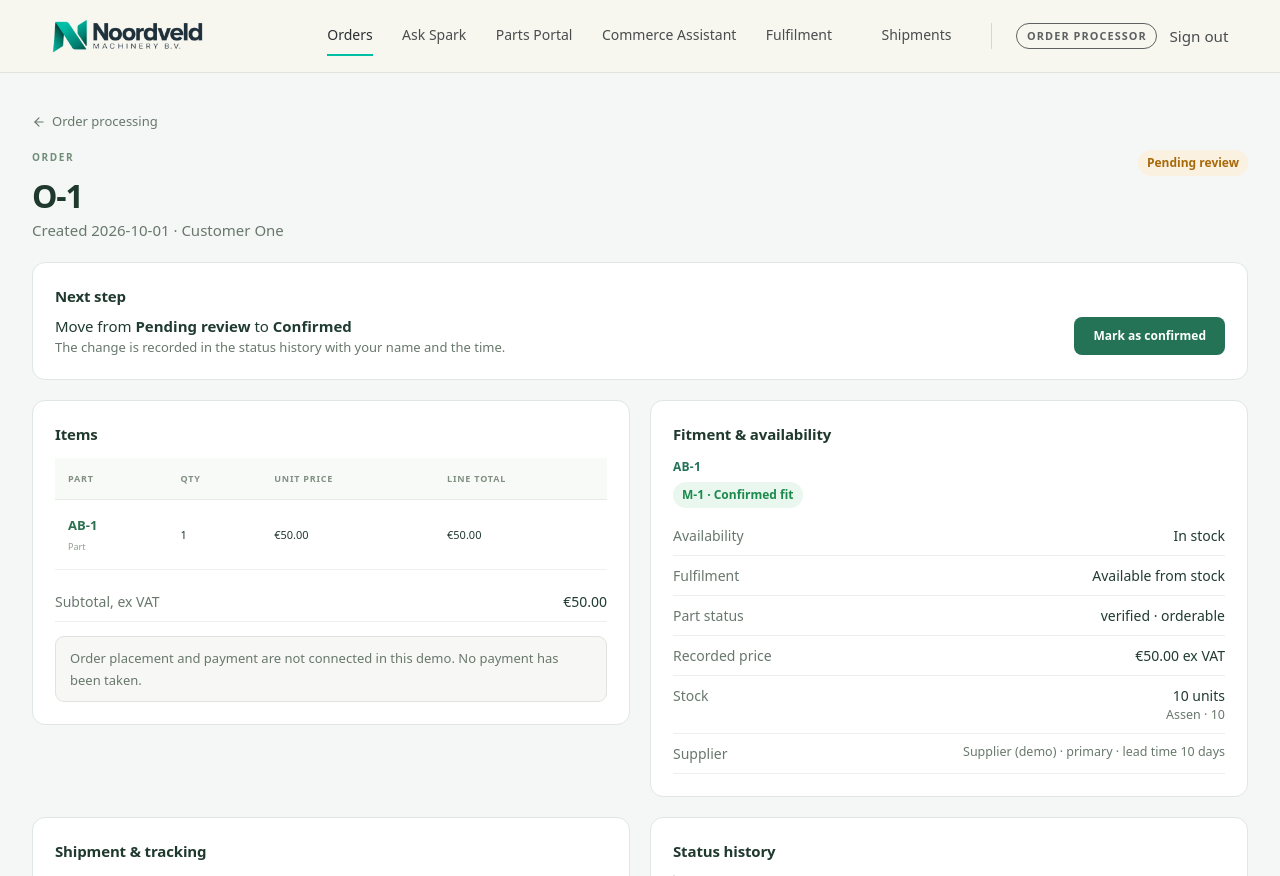
it: roles › lets the Order Processor inspect the order and move it one valid step
The image size is (1280, 876).
Check: the text "Supplier (demo) · primary · lead time 10 days" is shown, box [963,743,1225,762]
Check: the text "Assen · 10" is shown, box [1166,706,1225,724]
Click the button "Mark as confirmed": click(1150, 336) [1074,317,1225,355]
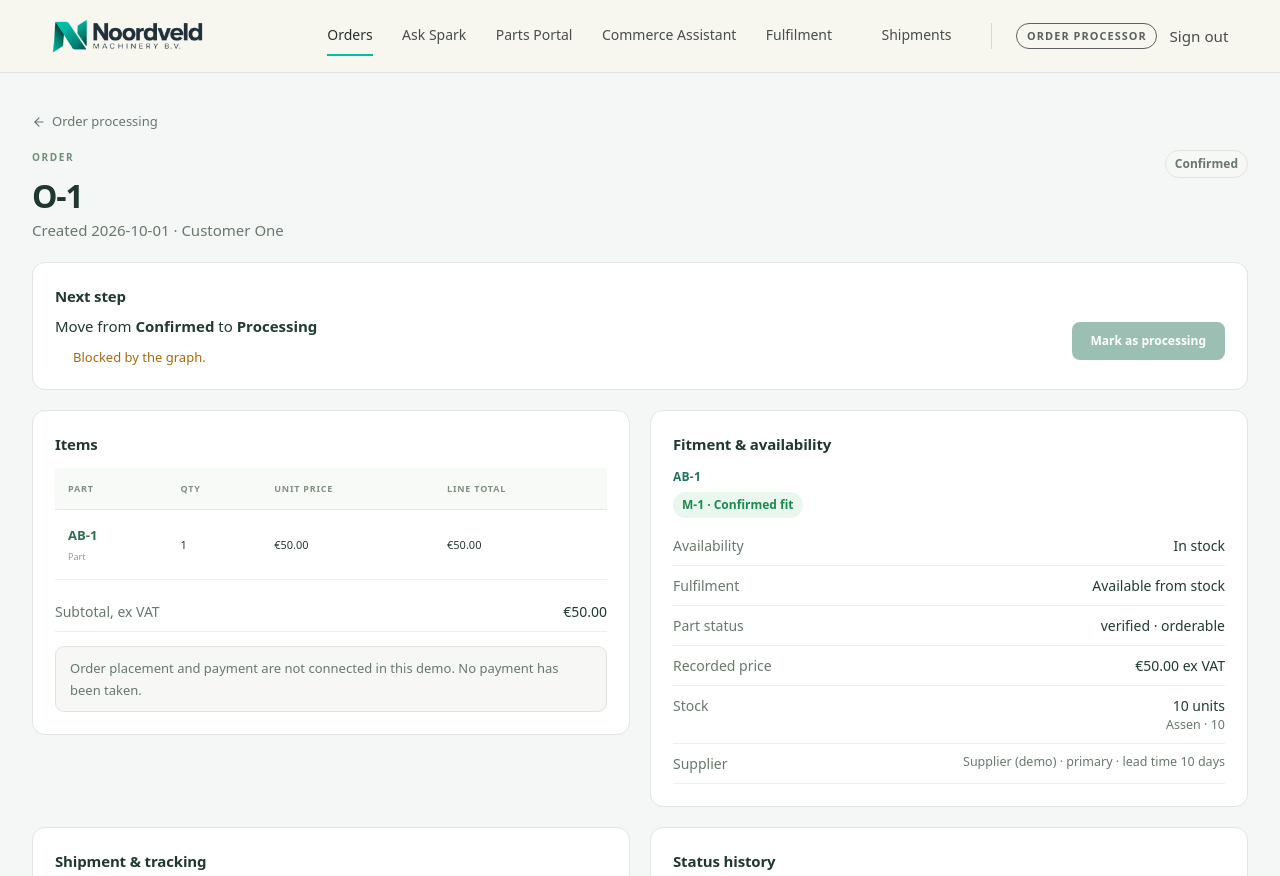
Check: the text "Blocked by the graph." is shown, box [73,348,206,366]
Check: the button "Mark as processing" is disabled, box [1072,322,1225,360]
